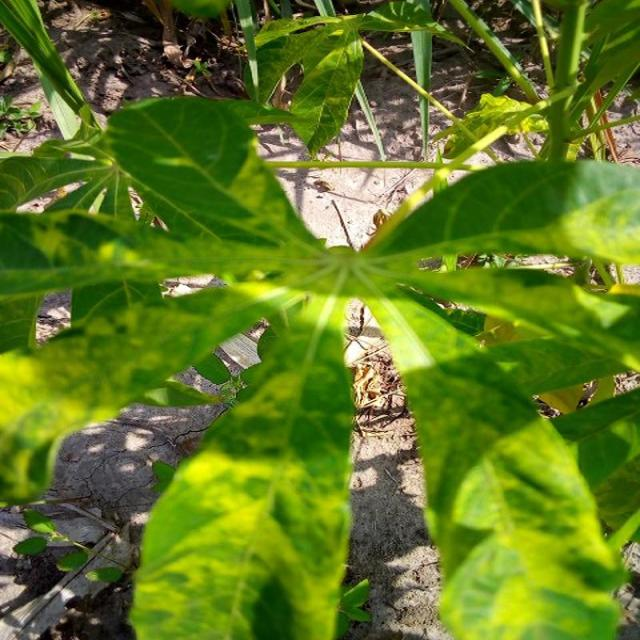cassava leaf: (1, 2, 638, 638), (127, 307, 356, 638)
